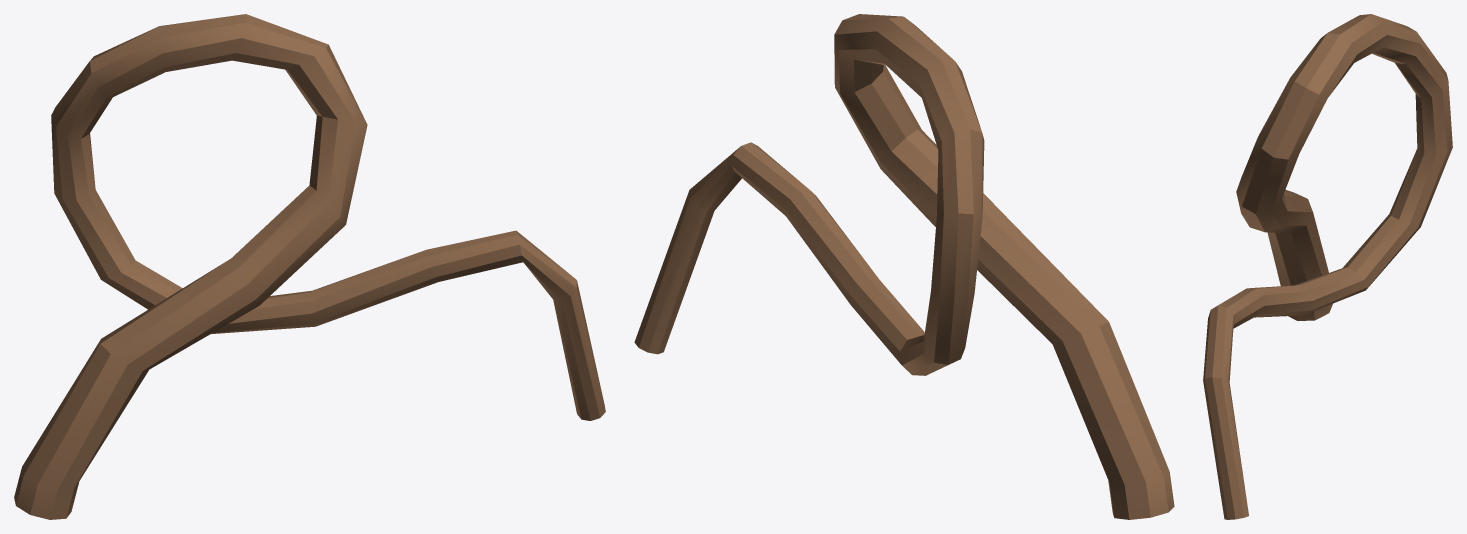
3 renders of one model, left to right at view 1: azimuth 30°, elevation 25°; view 2: azimuth 150°, elevation 25°; view 3: azimuth 270°, elevation 25°, orthographic. The views are drawn at different scales.
Visible parts, largest first — view 1: pCylinder3; view 2: pCylinder3; view 3: pCylinder3.
Part boxes in pixels (left/top/right/bottom): pCylinder3: left=14, top=14, right=605, bottom=519; pCylinder3: left=634, top=14, right=1174, bottom=519; pCylinder3: left=1203, top=14, right=1452, bottom=519.
Bounding box in the file's own units: 11.53 × 8.71 × 5.33.
